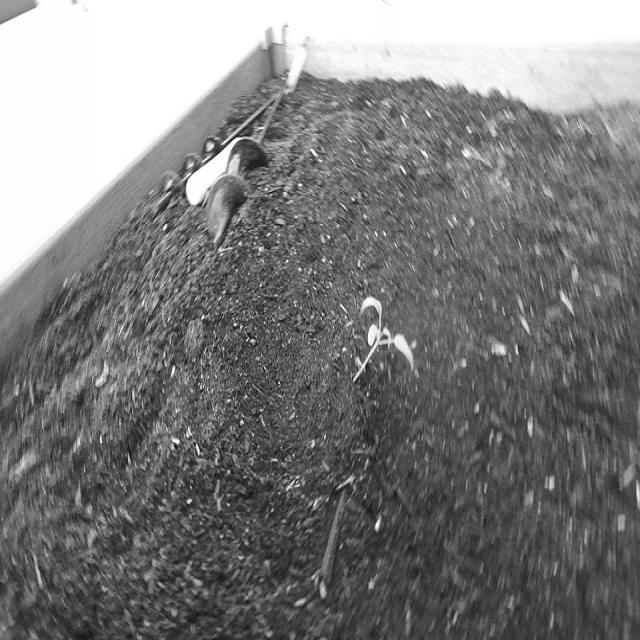Healthy: (342, 279, 420, 399)
